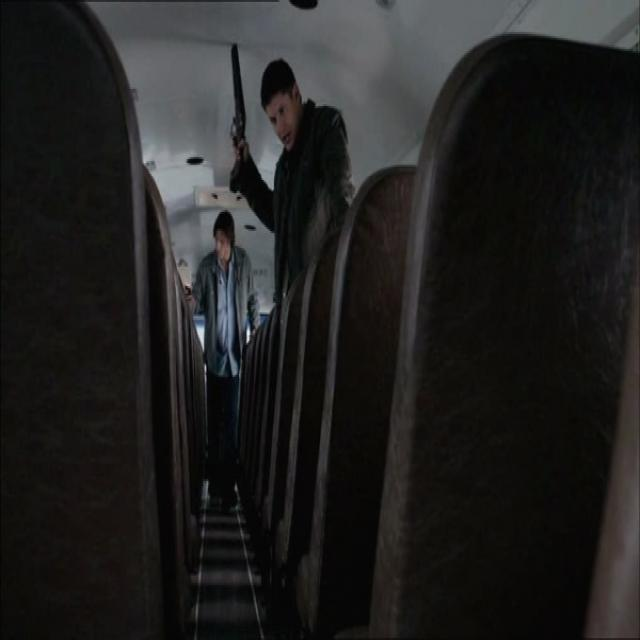rifle: (229, 41, 251, 204)
